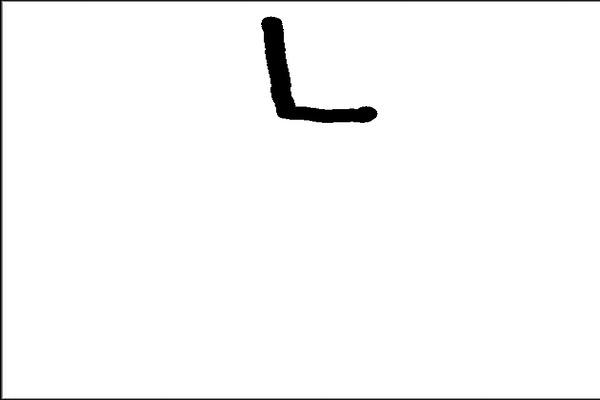L: (253, 9, 388, 129)
